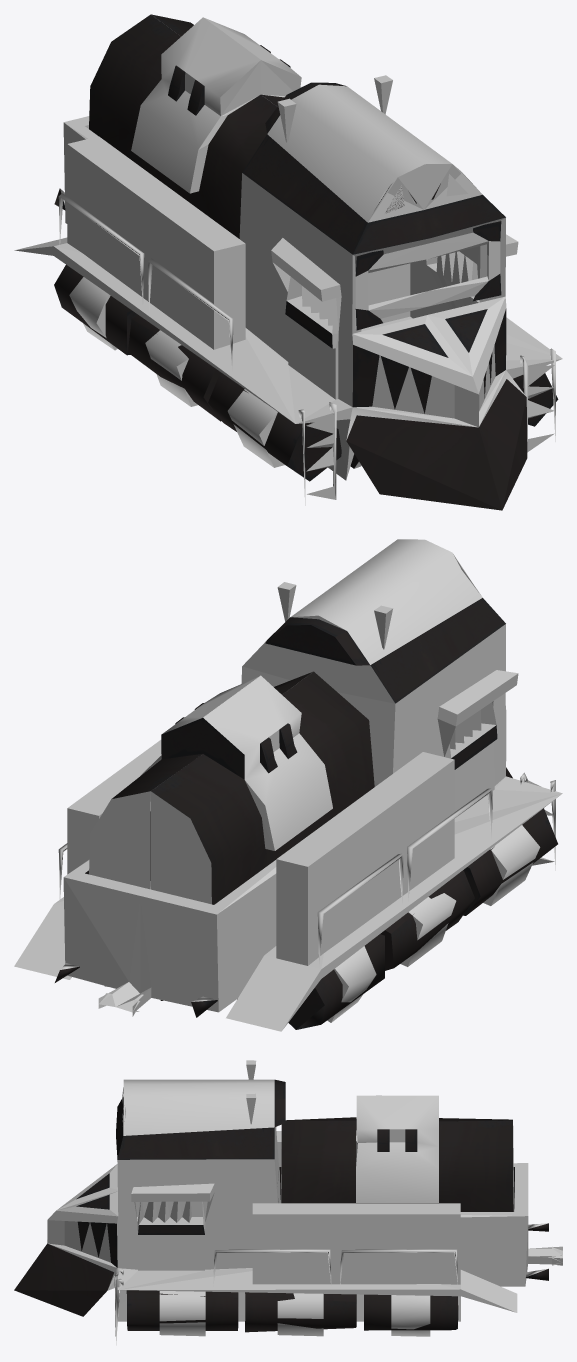
File: Train Collider.fbx
3 views of the same model, one above another, from view 1: azimuth 30°, elevation 25°; view 2: azimuth 150°, elevation 25°; view 3: azimuth 270°, elevation 25° (orthographic). The views are drawn at different scales.
Parts seen in each view (by area): view 1: Cube.002; view 2: Cube.002; view 3: Cube.002.
Part boxes in pixels (x1,y1,x2,y2): Cube.002: (14, 14, 562, 510); Cube.002: (14, 539, 562, 1031); Cube.002: (14, 1060, 562, 1345).
Size of the model in its own units: 365 by 406 by 870.
